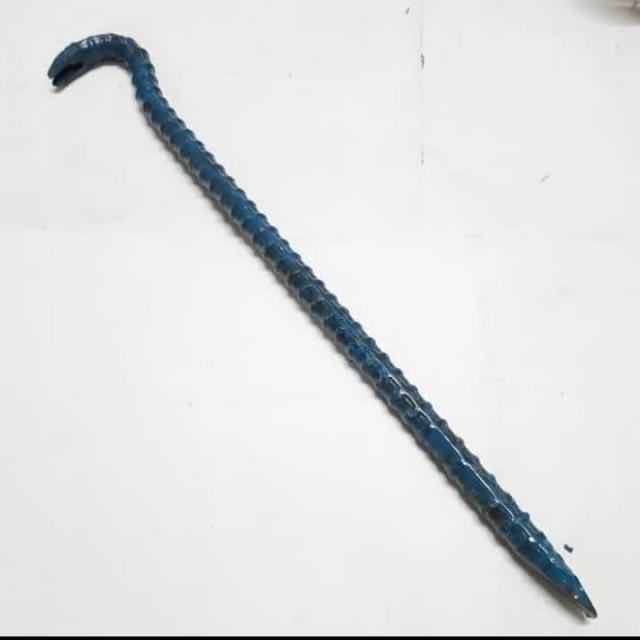Linggis: (36, 19, 611, 624)
